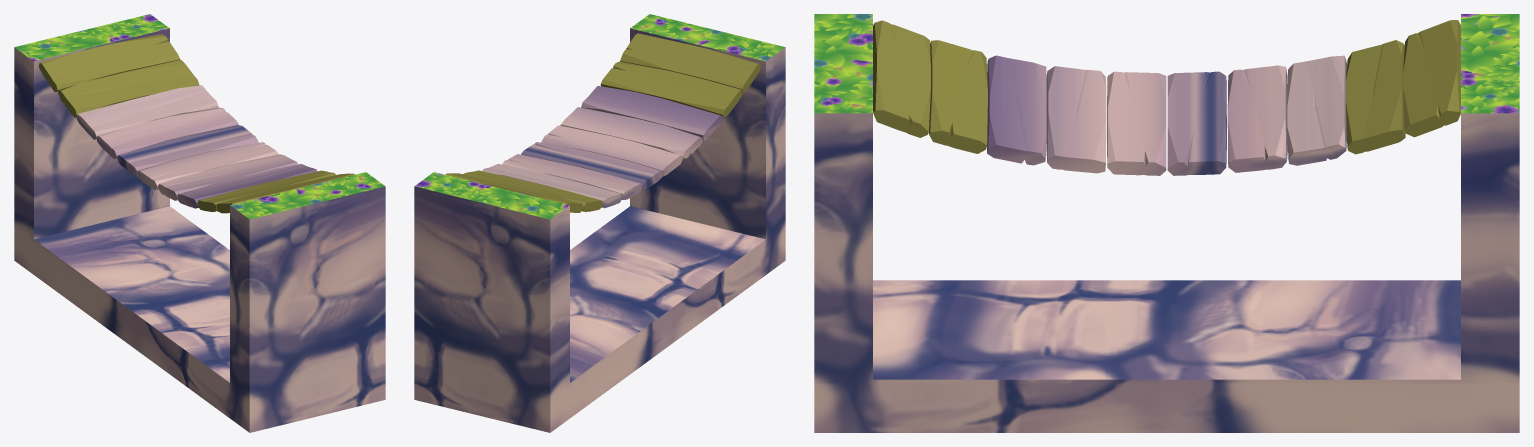
Rendered from block_05.fbx.
3 renders of one model, left to right at view 1: azimuth 30°, elevation 25°; view 2: azimuth 150°, elevation 25°; view 3: azimuth 270°, elevation 25°, orthographic. The views are drawn at different scales.
Parts seen in each view (by area): view 1: block_05.001, bridge, bridgesection_01, bridgesection_02, bridgesection_04, bridgesection_03, bridgesection_05, bridgesection_06; view 2: block_05.001, bridge, bridgesection_06, bridgesection_05, bridgesection_03, bridgesection_04, bridgesection_02, bridgesection_01; view 3: block_05.001, bridge, bridgesection_05, bridgesection_02, bridgesection_03, bridgesection_04, bridgesection_06, bridgesection_01.
Boxes of the visible parts, <box> form: block_05.001: <box>14,14,385,432</box>; bridge: <box>39,34,354,213</box>; bridgesection_01: <box>77,85,218,139</box>; bridgesection_02: <box>97,107,238,159</box>; bridgesection_04: <box>117,125,258,176</box>; bridgesection_03: <box>137,142,278,189</box>; bridgesection_05: <box>157,154,297,200</box>; bridgesection_06: <box>177,164,317,208</box>; block_05.001: <box>414,14,785,432</box>; bridge: <box>445,33,760,212</box>; bridgesection_06: <box>581,86,722,140</box>; bridgesection_05: <box>560,107,702,158</box>; bridgesection_03: <box>541,125,682,176</box>; bridgesection_04: <box>521,142,662,189</box>; bridgesection_02: <box>502,154,642,199</box>; bridgesection_01: <box>482,163,622,208</box>; block_05.001: <box>814,14,1519,432</box>; bridge: <box>873,20,1460,154</box>; bridgesection_05: <box>1046,66,1106,173</box>; bridgesection_02: <box>1227,65,1287,172</box>; bridgesection_03: <box>1107,71,1166,175</box>; bridgesection_04: <box>1167,71,1226,175</box>; bridgesection_06: <box>987,55,1046,165</box>; bridgesection_01: <box>1287,55,1346,165</box>.
Bounding box in the file's own units: 400 × 600 × 1200.
3 materials, 2 textured.
